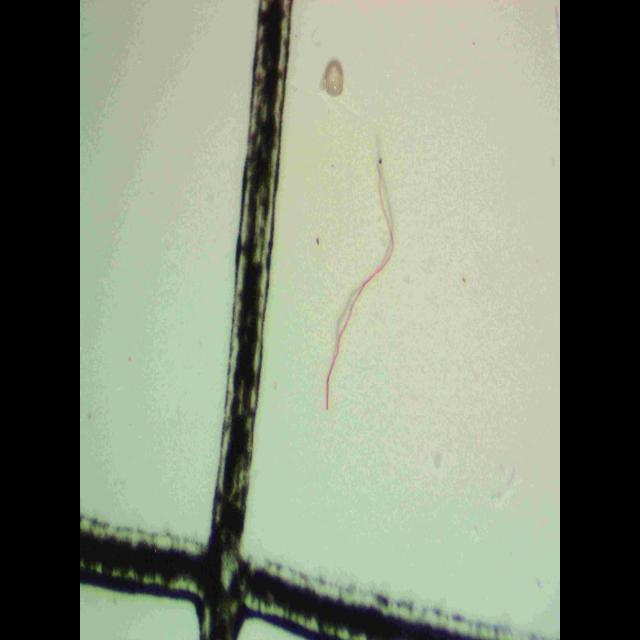Fibre: (81, 1, 559, 639), (324, 157, 398, 419)
